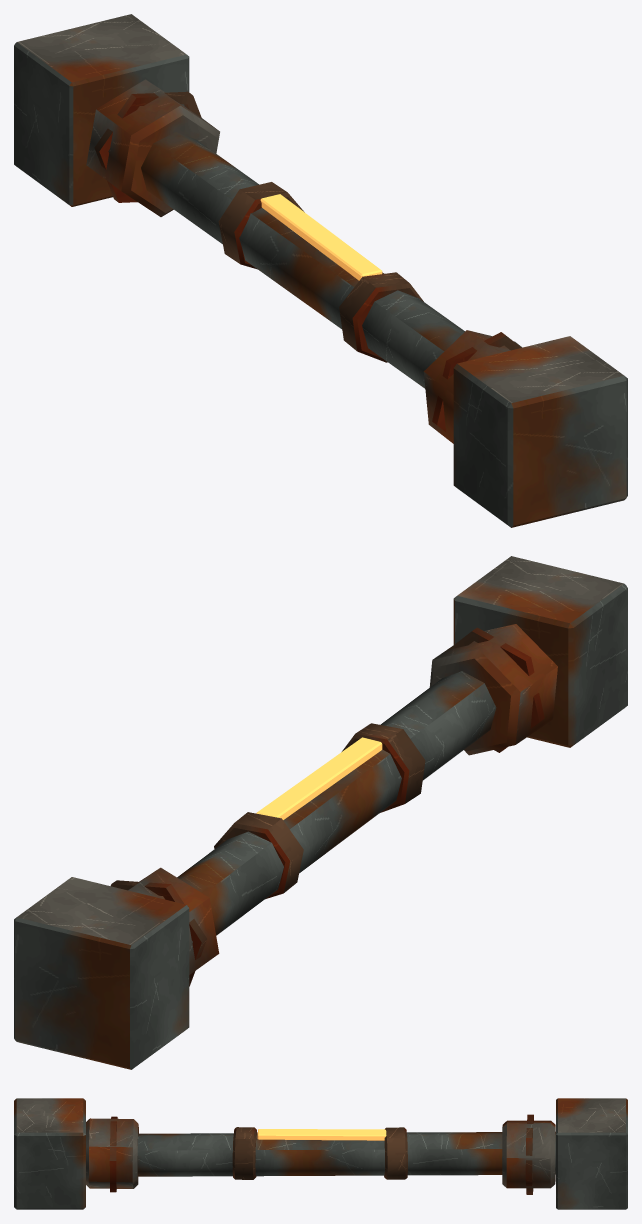
File: R4C_ROD_STANDARD_LOD1.glb
3 renders of one model, top to bottom at view 1: azimuth 30°, elevation 25°; view 2: azimuth 150°, elevation 25°; view 3: azimuth 270°, elevation 25°, orthographic. The views are drawn at different scales.
Visible parts, largest first — view 1: R4C_ROD_STANDARD_LOD1; view 2: R4C_ROD_STANDARD_LOD1; view 3: R4C_ROD_STANDARD_LOD1.
Boxes of the visible parts, bbox=[...] form: R4C_ROD_STANDARD_LOD1: bbox=[14, 14, 627, 527]; R4C_ROD_STANDARD_LOD1: bbox=[14, 556, 627, 1069]; R4C_ROD_STANDARD_LOD1: bbox=[14, 1098, 627, 1209].
Size of the model in its own units: 0.226 by 0.224 by 1.62.
Materials: 4 (3 with a texture image).
